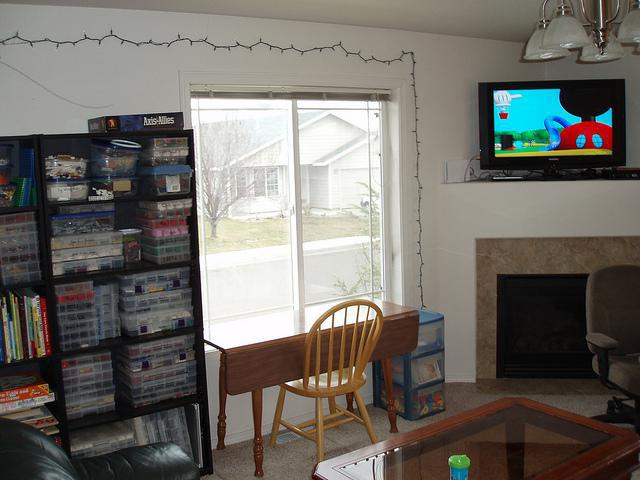tv: (476, 75, 626, 179)
